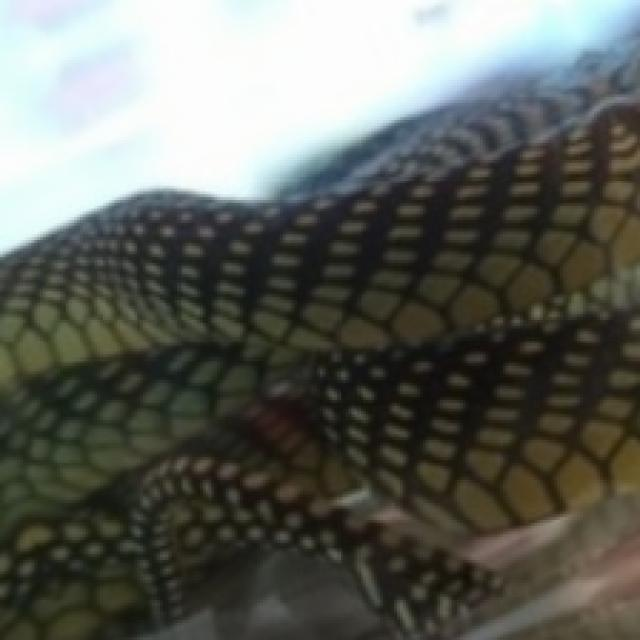paradise tree snake: (0, 34, 637, 637)
